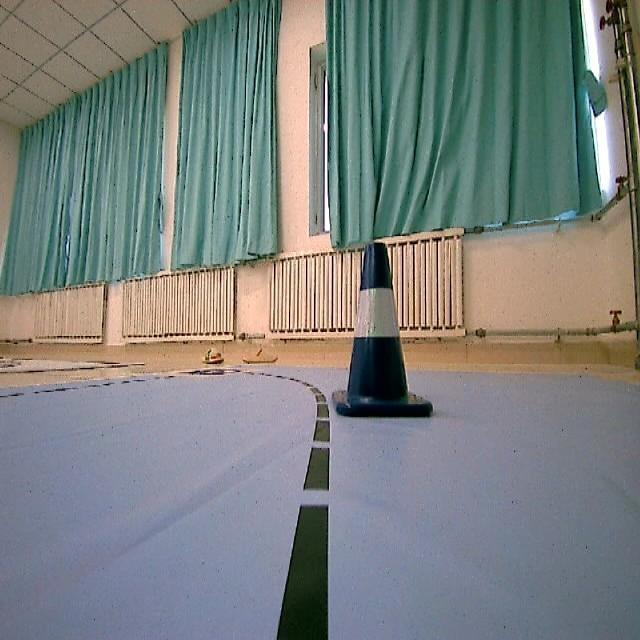obstacle: (328, 241, 429, 427)
